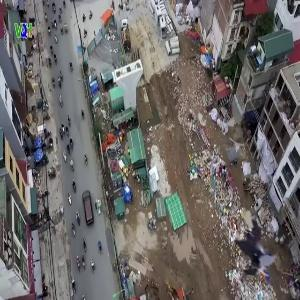drone: (209, 208, 288, 287)
